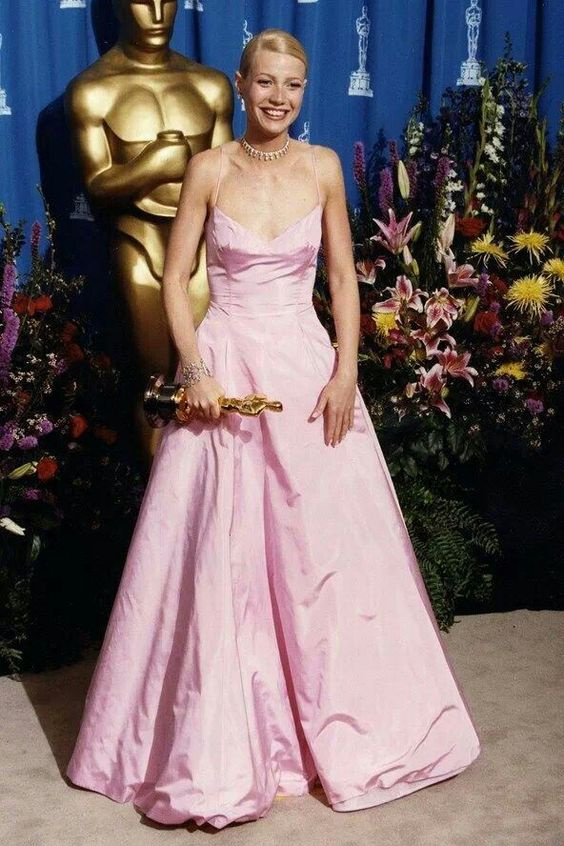hand: (186, 364, 225, 416)
